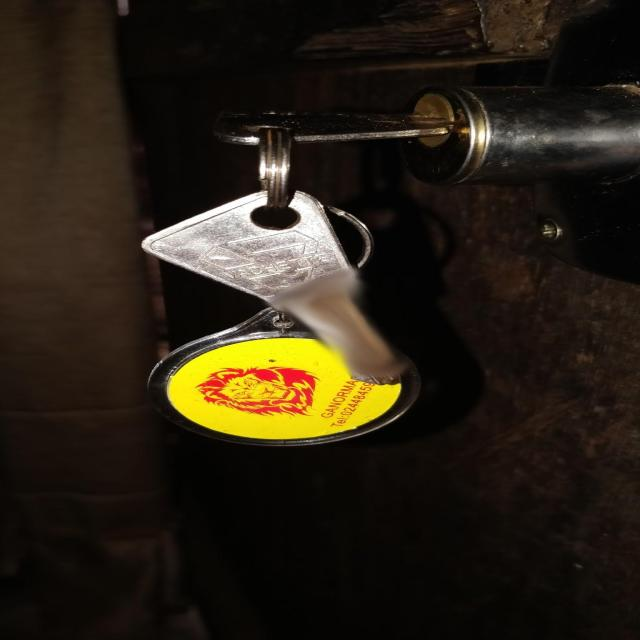Frontdoor keys: (120, 182, 418, 398)
